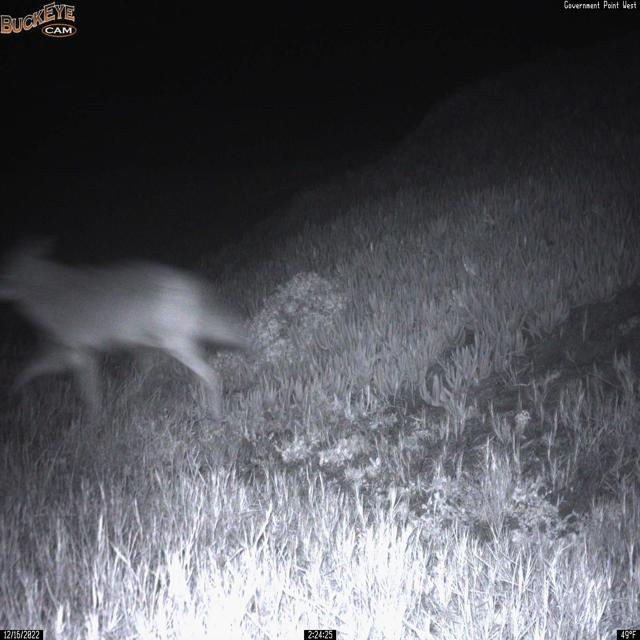coyote: (0, 231, 254, 429)
